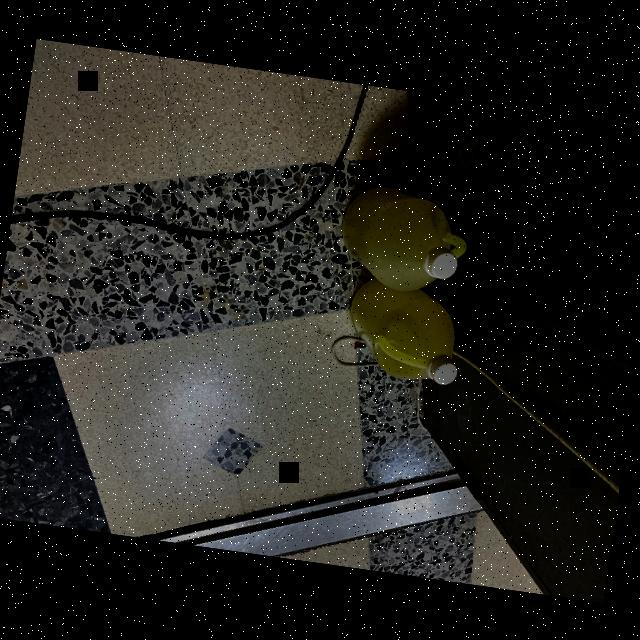chemical_plastic_gallon: (326, 172, 481, 304), (327, 270, 479, 400)
